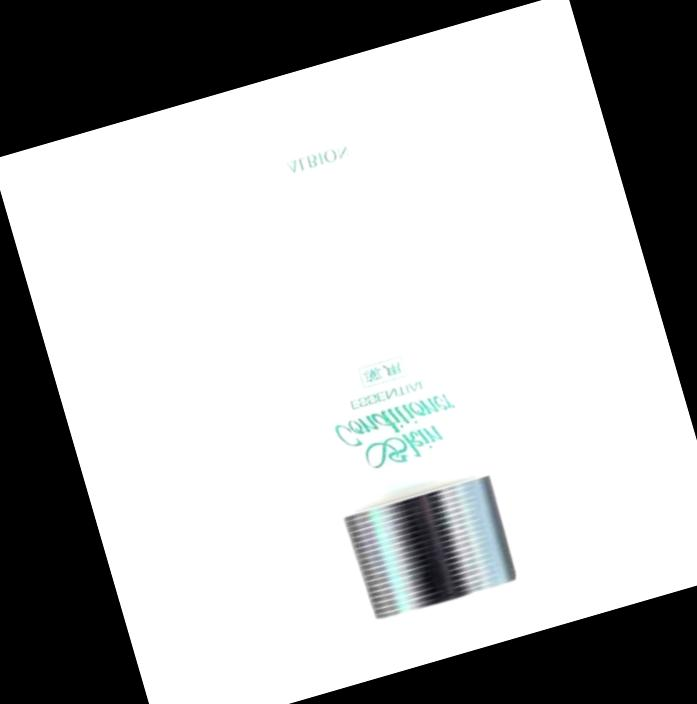cosmetic: (224, 92, 522, 627)
